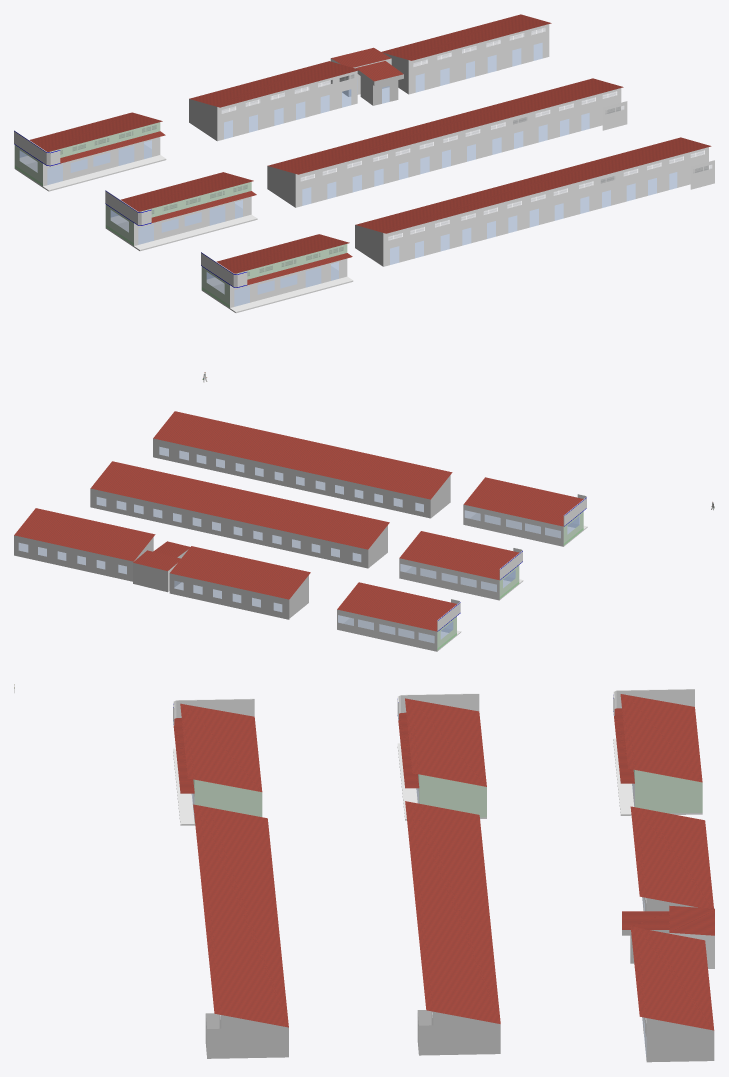
The model's file is NhaHocA3_AnLe.glb.
The picture shows the model from 3 angles, top to bottom: view 1: azimuth 30°, elevation 25°; view 2: azimuth 150°, elevation 25°; view 3: azimuth 270°, elevation 25°; orthographic projection. The views are drawn at different scales.
Parts seen in each view (by area): view 1: Material2 (×27), Material3; view 2: Material2 (×15), Material3; view 3: Material2 (×22).
Part boxes in pixels (<box>): Material2 (×27): <box>14,14,711,313</box>; Material3: <box>355,68,403,105</box>; Material2 (×15): <box>14,411,587,651</box>; Material3: <box>133,549,188,592</box>; Material2 (×22): <box>173,689,714,1062</box>.
Size of the model in its own units: 3921 by 252 by 3124.
31 materials, 2 textured.
